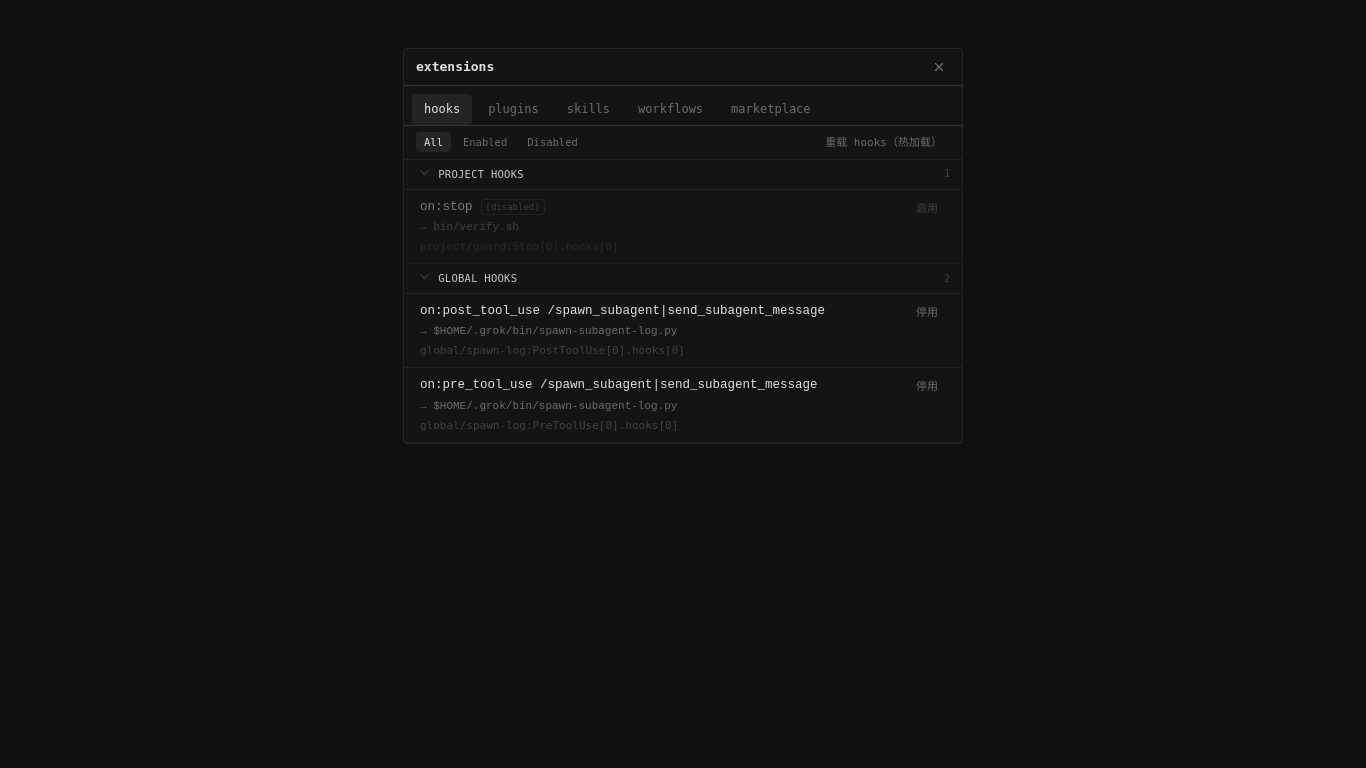
Test case: ExtensionsModal › hooks 启停失败 → 行内错误
This screenshot has width=1366, height=768.
Check: the text "on:pre_tool_use /spawn_subagent|send_subagent_message" is shown, box [420, 376, 818, 396]
Click the 1st button "停用" at (927, 312), box [908, 302, 946, 323]
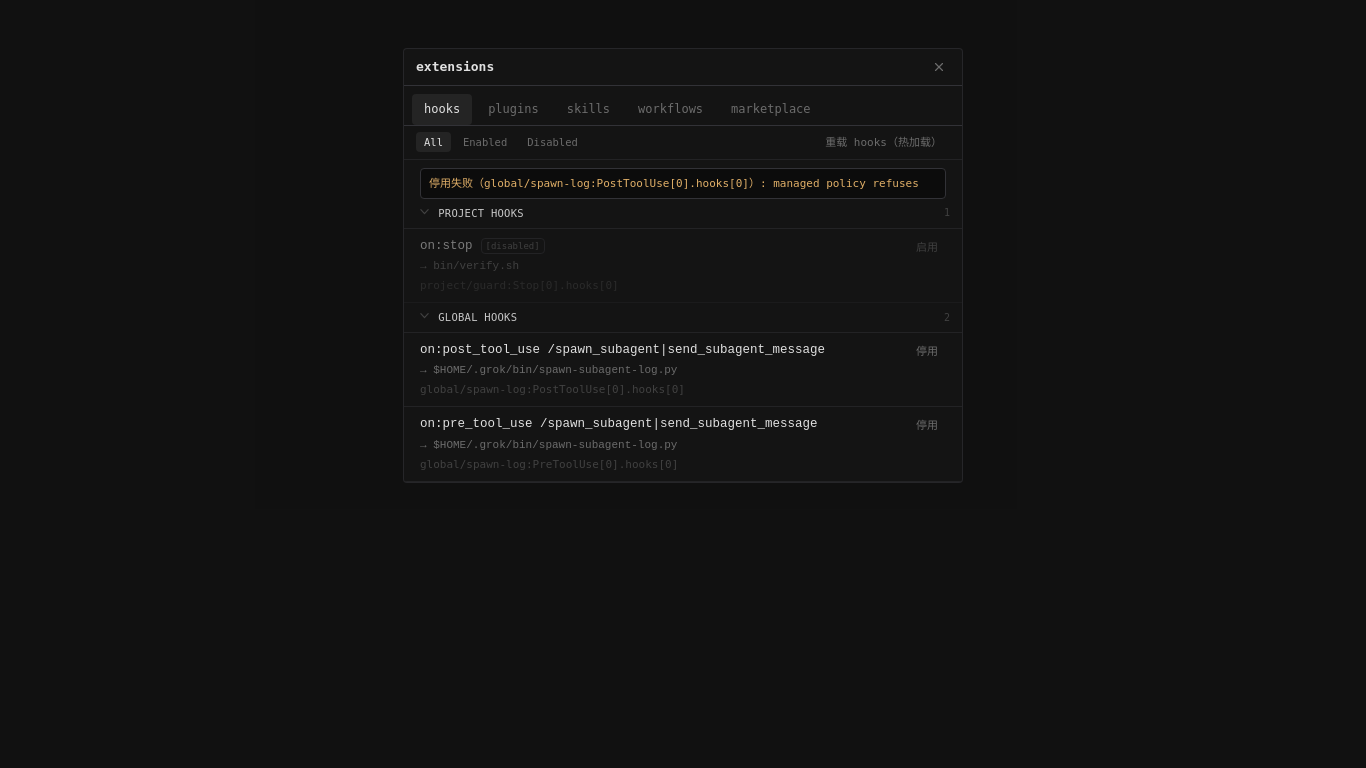
Check: the text "停用失败（global/spawn-log:PostToolUse[0].hooks[0]）: managed policy refuses" is shown, box [420, 168, 946, 199]
